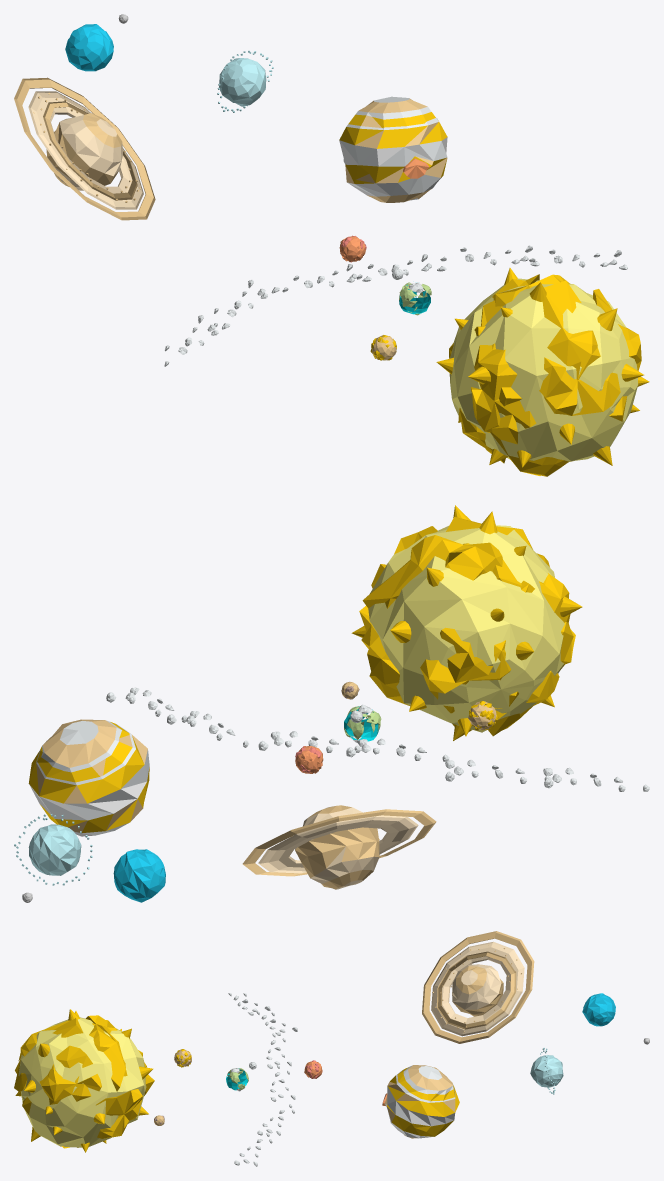
Rendered from Galaxy.gltf.
The picture shows the model from 3 angles, top to bottom: view 1: azimuth 30°, elevation 25°; view 2: azimuth 150°, elevation 25°; view 3: azimuth 270°, elevation 25°; orthographic projection. The views are drawn at different scales.
Parts seen in each view (by area): view 1: Node; view 2: Node; view 3: Node.
Part boxes in pixels (x1=…): Node: x1=14, y1=14, x2=649, y2=476; Node: x1=14, y1=505, x2=649, y2=902; Node: x1=14, y1=931, x2=649, y2=1166.
Size of the model in its own units: 5.76 by 2.33 by 9.72.
